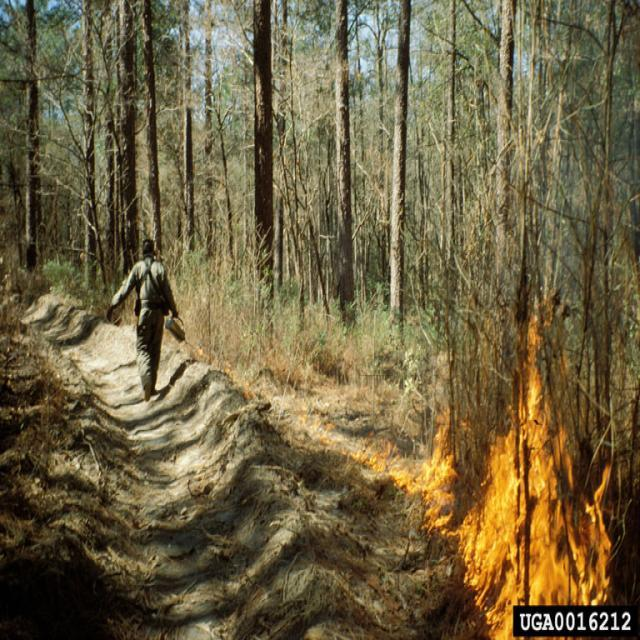Fire: (348, 309, 611, 640)
